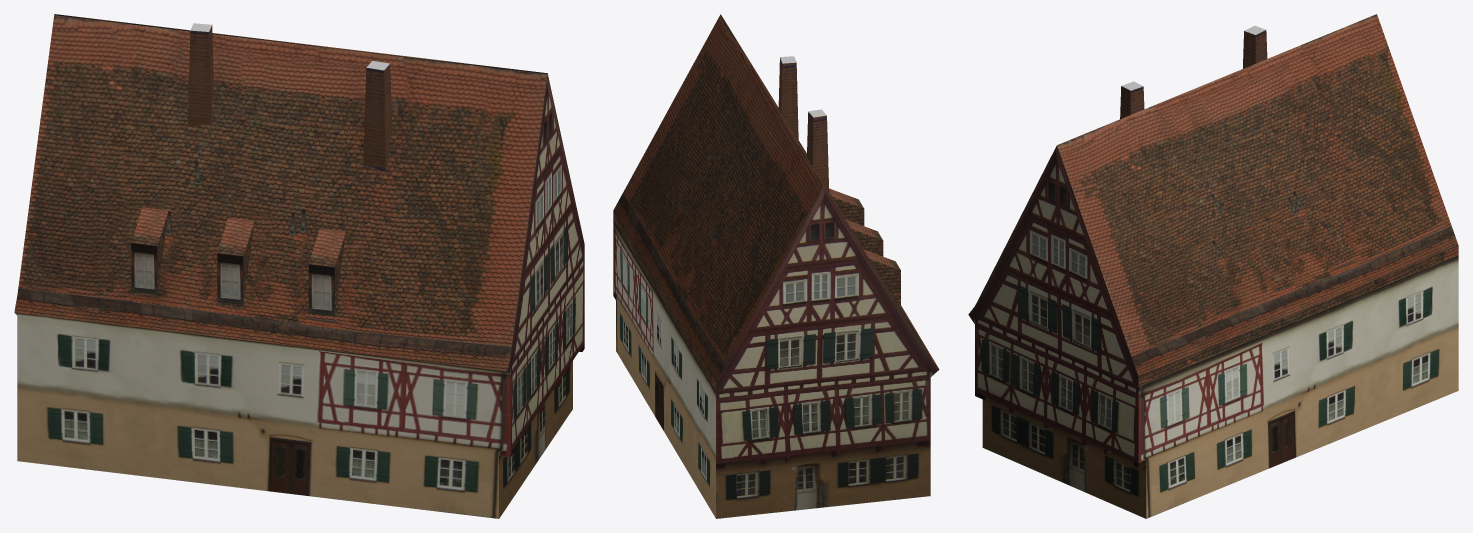
Rendered from Herrengasse_41 (1).dae.
3 renders of one model, left to right at view 1: azimuth 30°, elevation 25°; view 2: azimuth 150°, elevation 25°; view 3: azimuth 270°, elevation 25°, orthographic. The views are drawn at different scales.
Visible parts, largest first — view 1: group_0 (×3), Group_21 (×6), Group_15 (×2); view 2: group_0 (×3), Group_15 (×2), Group_21 (×3); view 3: group_0 (×3), Group_15 (×2).
Part boxes in pixels (x1,y1,x2,y2): group_0 (×3): (14, 14, 584, 518); Group_21 (×6): (131, 207, 345, 315); Group_15 (×2): (187, 25, 392, 171); group_0 (×3): (613, 14, 939, 518); Group_15 (×2): (778, 58, 829, 193); Group_21 (×3): (829, 188, 900, 309); group_0 (×3): (968, 14, 1458, 518); Group_15 (×2): (1120, 30, 1267, 119).
Size of the model in its own units: 815 by 822 by 661.
